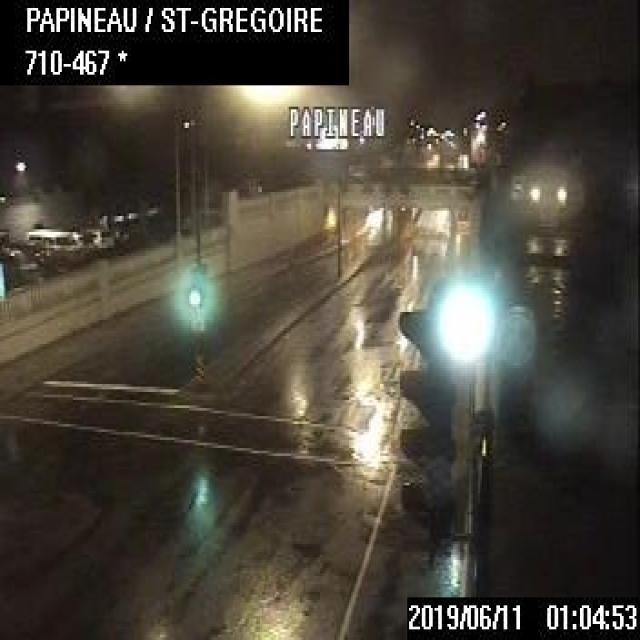vehicle: (24, 227, 82, 260), (84, 228, 113, 252)
